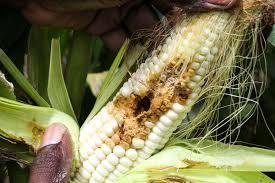fallarmy_worm: (132, 91, 161, 116)
